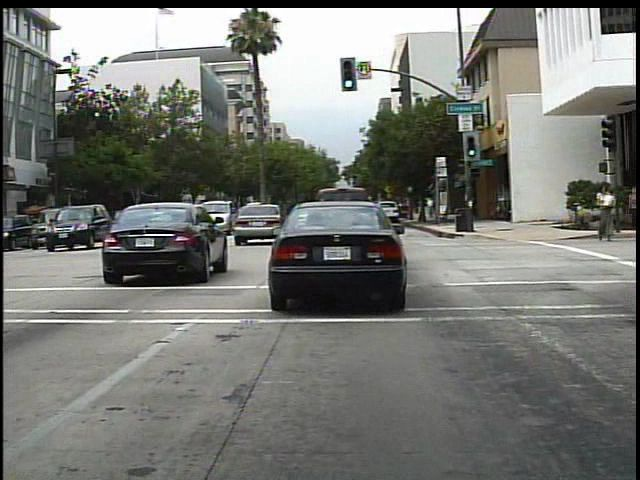person: (591, 180, 619, 248), (421, 191, 439, 223)
